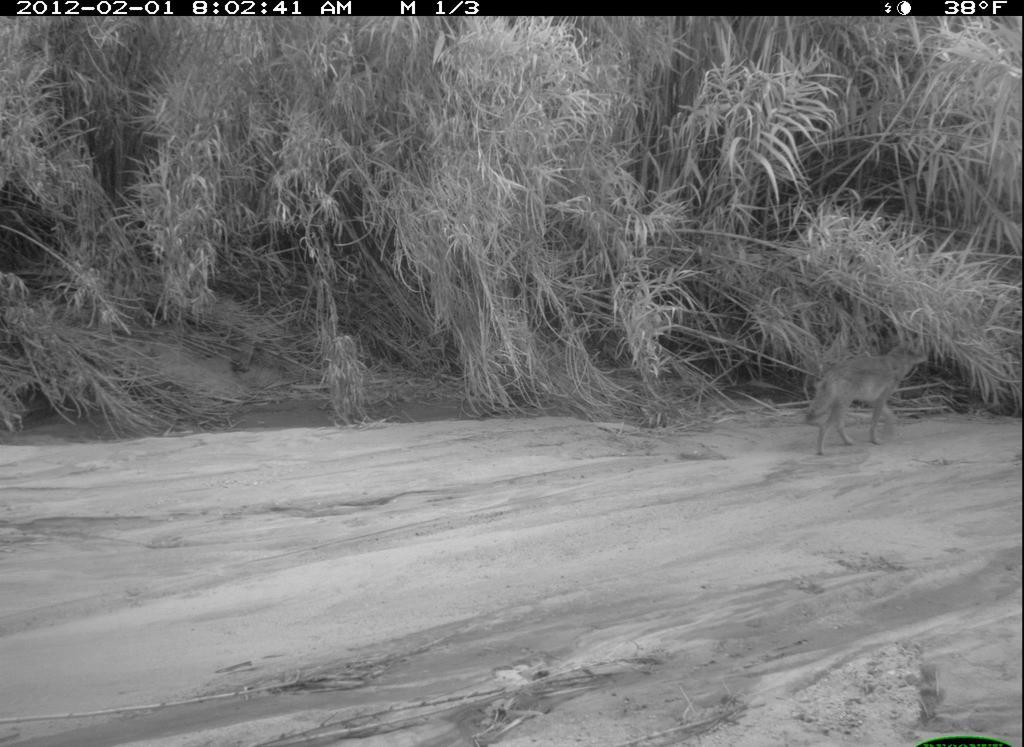coyote: (792, 329, 941, 458)
